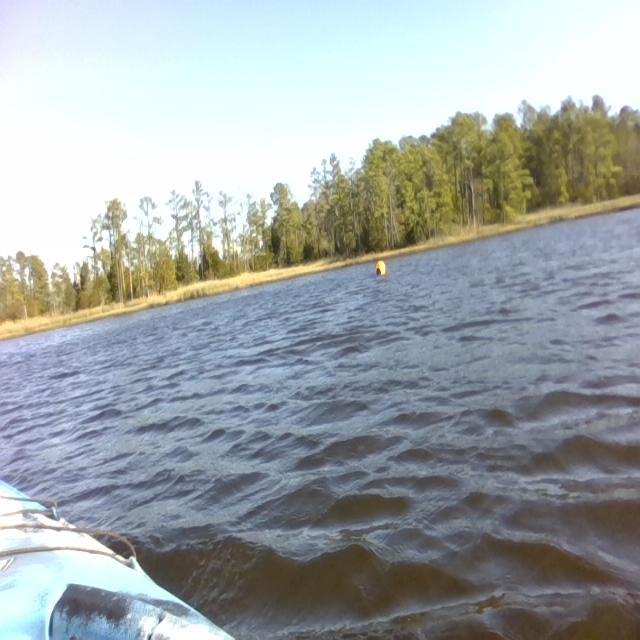Buoy: (370, 253, 391, 286)
